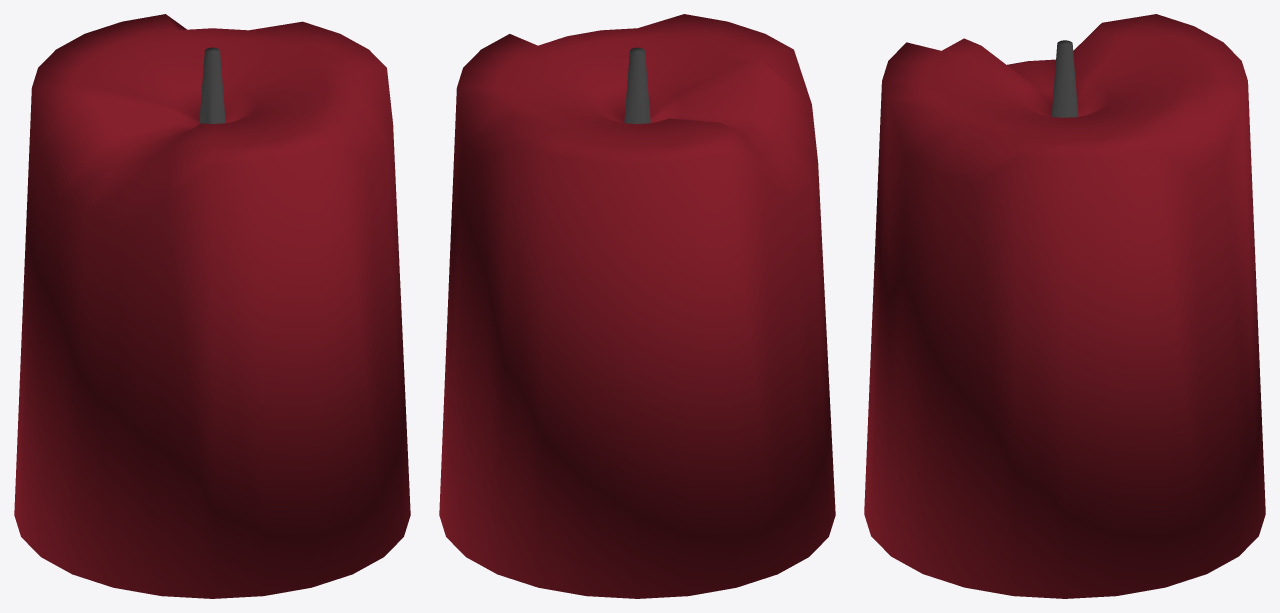
File: candleMedium.fbx
The picture shows the model from 3 angles, left to right: view 1: azimuth 30°, elevation 25°; view 2: azimuth 150°, elevation 25°; view 3: azimuth 270°, elevation 25°; orthographic projection.
Visible parts, largest first — view 1: Candle Medium; view 2: Candle Medium; view 3: Candle Medium.
Part boxes in pixels (bbox=[...]): Candle Medium: bbox=[14, 14, 410, 598]; Candle Medium: bbox=[439, 14, 835, 598]; Candle Medium: bbox=[864, 14, 1265, 598].
Size of the model in its own units: 9.79 by 9.79 by 12.66.
